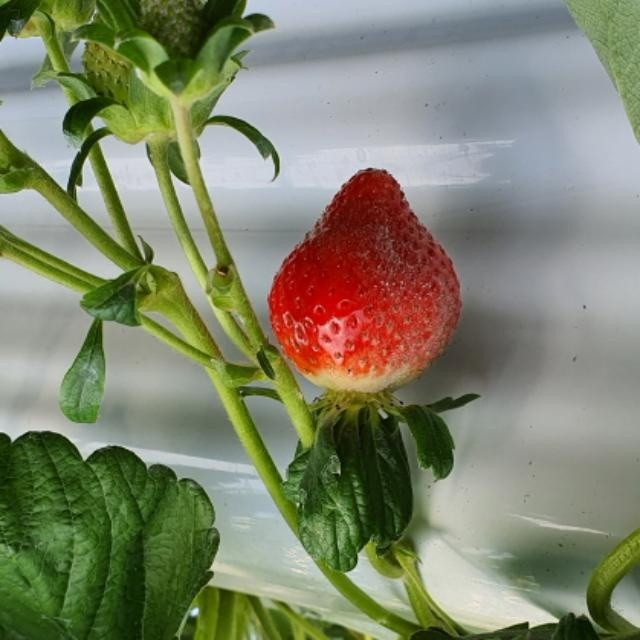Powdery Mildew Fruit: (352, 211, 462, 390)
